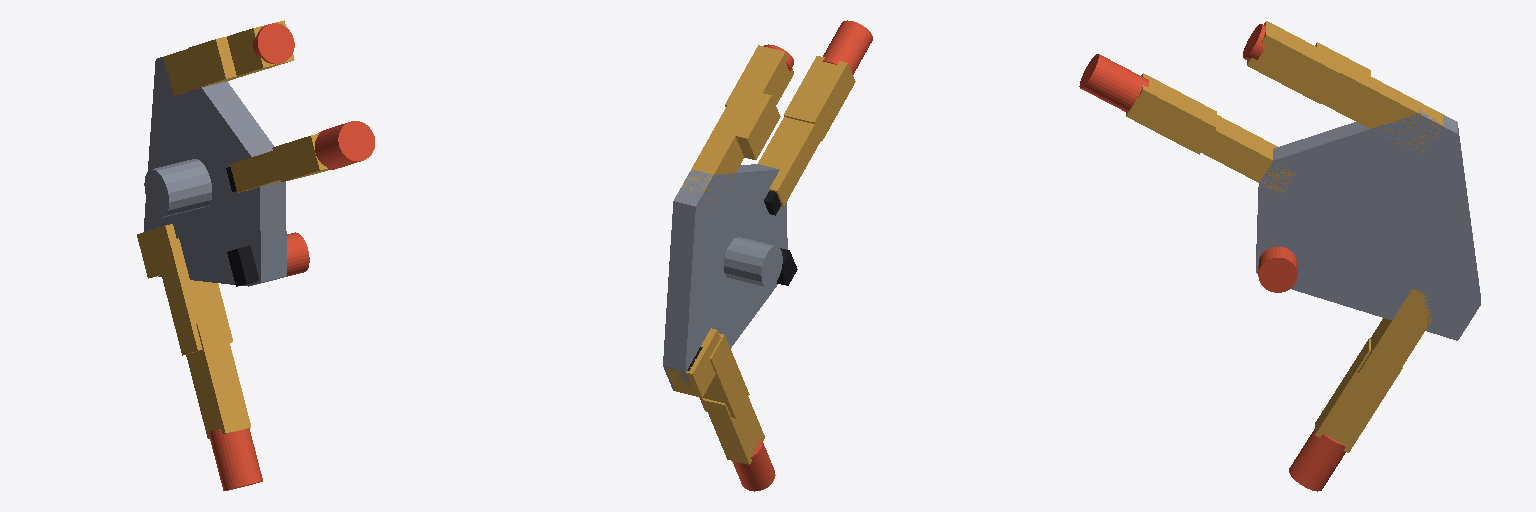
The robot description file, URDF, robot "g0033_c02":
<robot name="g0033_c02">
  <link name="palm">
    <visual name="palm_palm1">
      <origin xyz="0 0 0" rpy="0 0 0" />
      <geometry>
        <mesh filename="palm_palm1.obj" />
      </geometry>
      <material name="palm_palm1_mat">
        <color rgba="0.55 0.57 0.62 1" />
      </material>
    </visual>
    <collision>
      <origin xyz="0 0 0" rpy="0 0 0" />
      <geometry>
        <mesh filename="palm_palm1.obj" />
      </geometry>
    </collision>
    <visual name="palm_mount2">
      <origin xyz="0 0 0" rpy="0 0 0" />
      <geometry>
        <mesh filename="palm_mount2.obj" />
      </geometry>
      <material name="palm_mount2_mat">
        <color rgba="0.55 0.57 0.62 1" />
      </material>
    </visual>
    <collision>
      <origin xyz="0 0 0" rpy="0 0 0" />
      <geometry>
        <mesh filename="palm_mount2.obj" />
      </geometry>
    </collision>
    <visual name="palm_motor3">
      <origin xyz="-0.007 -0.08 -0.04" rpy="1.06057524e-16 -1.04719755 1.57079633" />
      <geometry>
        <box size="0.029 0.034 0.02" />
      </geometry>
      <material name="palm_motor3_mat">
        <color rgba="0.15 0.15 0.17 1" />
      </material>
    </visual>
    <collision>
      <origin xyz="-0.007 -0.08 -0.04" rpy="1.06057524e-16 -1.04719755 1.57079633" />
      <geometry>
        <box size="0.029 0.034 0.02" />
      </geometry>
    </collision>
    <visual name="palm_motor4">
      <origin xyz="-0.0045 -0.0735048095 0.03625" rpy="-0.523598776 -5.30287619e-17 3.061617e-17" />
      <geometry>
        <box size="0.029 0.034 0.02" />
      </geometry>
      <material name="palm_motor4_mat">
        <color rgba="0.15 0.15 0.17 1" />
      </material>
    </visual>
    <collision>
      <origin xyz="-0.0045 -0.0735048095 0.03625" rpy="-0.523598776 -5.30287619e-17 3.061617e-17" />
      <geometry>
        <box size="0.029 0.034 0.02" />
      </geometry>
    </collision>
    <visual name="palm_motor5">
      <origin xyz="-0.0045 0.0666996732 -0.0867548095" rpy="1.57079633 -0.523598776 -1.57079633" />
      <geometry>
        <box size="0.029 0.034 0.02" />
      </geometry>
      <material name="palm_motor5_mat">
        <color rgba="0.15 0.15 0.17 1" />
      </material>
    </visual>
    <collision>
      <origin xyz="-0.0045 0.0666996732 -0.0867548095" rpy="1.57079633 -0.523598776 -1.57079633" />
      <geometry>
        <box size="0.029 0.034 0.02" />
      </geometry>
    </collision>
    <visual name="palm_motor6">
      <origin xyz="0 0.0464951905 0.07625" rpy="-1.57079633 -1.04719755 1.57079633" />
      <geometry>
        <box size="0.029 0.034 0.02" />
      </geometry>
      <material name="palm_motor6_mat">
        <color rgba="0.15 0.15 0.17 1" />
      </material>
    </visual>
    <collision>
      <origin xyz="0 0.0464951905 0.07625" rpy="-1.57079633 -1.04719755 1.57079633" />
      <geometry>
        <box size="0.029 0.034 0.02" />
      </geometry>
    </collision>
    <inertial>
      <origin xyz="0 0.00166433868 -0.00458662896" rpy="-1.57079633 0.761231721 1.57079633" />
      <mass value="1.21129512" />
      <inertia ixx="0.00271392059" ixy="0" ixz="0" iyy="0.00331532563" iyz="0" izz="0.0059129619" />
    </inertial>
  </link>
  <link name="f0_link0">
    <visual name="f0_link0_link1">
      <origin xyz="0.019 0 -6.9388939e-18" rpy="-1.57079633 -0 -1.57079633" />
      <geometry>
        <cylinder radius="0.0165" length="0.029" />
      </geometry>
      <material name="f0_link0_link1_mat">
        <color rgba="0.85 0.35 0.25 1" />
      </material>
    </visual>
    <collision>
      <origin xyz="0.019 0 -6.9388939e-18" rpy="-1.57079633 -0 -1.57079633" />
      <geometry>
        <cylinder radius="0.0165" length="0.029" />
      </geometry>
    </collision>
    <inertial>
      <origin xyz="0.019 0 0" rpy="0 0 0" />
      <mass value="0.0763354" />
      <inertia ixx="9.49466441e-06" ixy="0" ixz="0" iyy="2.24143997e-05" iyz="0" izz="2.24143997e-05" />
    </inertial>
  </link>
  <link name="f1_link0">
    <visual name="f1_link0_link1">
      <origin xyz="0.03875 0 -1.21430643e-17" rpy="0 7.03853194e-17 0" />
      <geometry>
        <box size="0.1015 0.033 0.024" />
      </geometry>
      <material name="f1_link0_link1_mat">
        <color rgba="0.80 0.62 0.30 1" />
      </material>
    </visual>
    <collision>
      <origin xyz="0.03875 0 -1.21430643e-17" rpy="0 7.03853194e-17 0" />
      <geometry>
        <box size="0.1015 0.033 0.024" />
      </geometry>
    </collision>
    <inertial>
      <origin xyz="0.03875 0 0" rpy="0 0 0" />
      <mass value="0.140679" />
      <inertia ixx="1.95192113e-05" ixy="0" ixz="0" iyy="0.000127528444" iyz="0" izz="0.000133542472" />
    </inertial>
  </link>
  <link name="f1_link1">
    <visual name="f1_link1_link1">
      <origin xyz="0.02375 0 -2.08166817e-17" rpy="0 7.03853194e-17 0" />
      <geometry>
        <box size="0.0715 0.033 0.029" />
      </geometry>
      <material name="f1_link1_link1_mat">
        <color rgba="0.80 0.62 0.30 1" />
      </material>
    </visual>
    <collision>
      <origin xyz="0.02375 0 -2.08166817e-17" rpy="0 7.03853194e-17 0" />
      <geometry>
        <box size="0.0715 0.033 0.029" />
      </geometry>
    </collision>
    <inertial>
      <origin xyz="0.02375 0 0" rpy="0 0 0" />
      <mass value="0.119744625" />
      <inertia ixx="1.92589272e-05" ixy="0" ixz="0" iyy="5.94058074e-05" iyz="0" izz="6.18805296e-05" />
    </inertial>
  </link>
  <link name="f1_link2">
    <visual name="f1_link2_link1">
      <origin xyz="0.029 0 -7.80625564e-18" rpy="-1.57079633 -0 -1.57079633" />
      <geometry>
        <cylinder radius="0.0165" length="0.049" />
      </geometry>
      <material name="f1_link2_link1_mat">
        <color rgba="0.85 0.35 0.25 1" />
      </material>
    </visual>
    <collision>
      <origin xyz="0.029 0 -7.80625564e-18" rpy="-1.57079633 -0 -1.57079633" />
      <geometry>
        <cylinder radius="0.0165" length="0.049" />
      </geometry>
    </collision>
    <inertial>
      <origin xyz="0.029 0 0" rpy="0 0 0" />
      <mass value="0.106270851" />
      <inertia ixx="1.35696277e-05" ixy="0" ixz="0" iyy="5.30015704e-05" iyz="0" izz="5.30015704e-05" />
    </inertial>
  </link>
  <link name="f2_link0">
    <visual name="f2_link0_link1">
      <origin xyz="-0.00625 0 -0.0165" rpy="0 4.06369831e-17 0" />
      <geometry>
        <box size="0.0365 0.029 0.053" />
      </geometry>
      <material name="f2_link0_link1_mat">
        <color rgba="0.80 0.62 0.30 1" />
      </material>
    </visual>
    <collision>
      <origin xyz="-0.00625 0 -0.0165" rpy="0 4.06369831e-17 0" />
      <geometry>
        <box size="0.0365 0.029 0.053" />
      </geometry>
    </collision>
    <inertial>
      <origin xyz="-0.00625 0 -0.0165" rpy="0 0 0" />
      <mass value="0.098175875" />
      <inertia ixx="2.98618286e-05" ixy="0" ixz="0" iyy="3.38809035e-05" iyz="0" izz="1.778006e-05" />
    </inertial>
  </link>
  <link name="f2_link1">
    <visual name="f2_link1_link1">
      <origin xyz="0.03375 0 0" rpy="0 4.06369831e-17 0" />
      <geometry>
        <box size="0.0915 0.033 0.029" />
      </geometry>
      <material name="f2_link1_link1_mat">
        <color rgba="0.80 0.62 0.30 1" />
      </material>
    </visual>
    <collision>
      <origin xyz="0.03375 0 0" rpy="0 4.06369831e-17 0" />
      <geometry>
        <box size="0.0915 0.033 0.029" />
      </geometry>
    </collision>
    <inertial>
      <origin xyz="0.03375 0 0" rpy="0 0 0" />
      <mass value="0.153239625" />
      <inertia ixx="2.46460397e-05" ixy="0" ixz="0" iyy="0.000117652915" iyz="0" izz="0.000120819867" />
    </inertial>
  </link>
  <link name="f2_link2">
    <visual name="f2_link2_link1">
      <origin xyz="0.03375 0 0" rpy="0 4.06369831e-17 0" />
      <geometry>
        <box size="0.0915 0.024 0.033" />
      </geometry>
      <material name="f2_link2_link1_mat">
        <color rgba="0.80 0.62 0.30 1" />
      </material>
    </visual>
    <collision>
      <origin xyz="0.03375 0 0" rpy="0 4.06369831e-17 0" />
      <geometry>
        <box size="0.0915 0.024 0.033" />
      </geometry>
    </collision>
    <inertial>
      <origin xyz="0.03375 0 0" rpy="0 0 0" />
      <mass value="0.126819" />
      <inertia ixx="1.75961363e-05" ixy="0" ixz="0" iyy="9.99888553e-05" iyz="0" izz="9.45673431e-05" />
    </inertial>
  </link>
  <link name="f2_link3">
    <visual name="f2_link3_link1">
      <origin xyz="0.029 0 0" rpy="-1.57079633 -0 -1.57079633" />
      <geometry>
        <cylinder radius="0.0165" length="0.049" />
      </geometry>
      <material name="f2_link3_link1_mat">
        <color rgba="0.85 0.35 0.25 1" />
      </material>
    </visual>
    <collision>
      <origin xyz="0.029 0 0" rpy="-1.57079633 -0 -1.57079633" />
      <geometry>
        <cylinder radius="0.0165" length="0.049" />
      </geometry>
    </collision>
    <inertial>
      <origin xyz="0.029 0 0" rpy="0 0 0" />
      <mass value="0.106270851" />
      <inertia ixx="1.35696277e-05" ixy="0" ixz="0" iyy="5.30015704e-05" iyz="0" izz="5.30015704e-05" />
    </inertial>
  </link>
  <link name="f3_link0">
    <visual name="f3_link0_link1">
      <origin xyz="0.03375 0 0" rpy="0 7.03853194e-17 0" />
      <geometry>
        <box size="0.0915 0.024 0.033" />
      </geometry>
      <material name="f3_link0_link1_mat">
        <color rgba="0.80 0.62 0.30 1" />
      </material>
    </visual>
    <collision>
      <origin xyz="0.03375 0 0" rpy="0 7.03853194e-17 0" />
      <geometry>
        <box size="0.0915 0.024 0.033" />
      </geometry>
    </collision>
    <inertial>
      <origin xyz="0.03375 0 0" rpy="0 0 0" />
      <mass value="0.126819" />
      <inertia ixx="1.75961363e-05" ixy="0" ixz="0" iyy="9.99888553e-05" iyz="0" izz="9.45673431e-05" />
    </inertial>
  </link>
  <link name="f3_link1">
    <visual name="f3_link1_link1">
      <origin xyz="0.014 -0.00625 -1.38777878e-17" rpy="0 7.03853194e-17 0" />
      <geometry>
        <box size="0.052 0.0365 0.033" />
      </geometry>
      <material name="f3_link1_link1_mat">
        <color rgba="0.80 0.62 0.30 1" />
      </material>
    </visual>
    <collision>
      <origin xyz="0.014 -0.00625 -1.38777878e-17" rpy="0 7.03853194e-17 0" />
      <geometry>
        <box size="0.052 0.0365 0.033" />
      </geometry>
    </collision>
    <inertial>
      <origin xyz="0.014 -0.00625 0" rpy="0 0 0" />
      <mass value="0.1096095" />
      <inertia ixx="2.21160002e-05" ixy="0" ixz="0" iyy="3.46457361e-05" iyz="0" izz="3.6867612e-05" />
    </inertial>
  </link>
  <link name="f3_link2">
    <visual name="f3_link2_link1">
      <origin xyz="0.02375 0 -1.38777878e-17" rpy="0 7.03853194e-17 0" />
      <geometry>
        <box size="0.0715 0.029 0.033" />
      </geometry>
      <material name="f3_link2_link1_mat">
        <color rgba="0.80 0.62 0.30 1" />
      </material>
    </visual>
    <collision>
      <origin xyz="0.02375 0 -1.38777878e-17" rpy="0 7.03853194e-17 0" />
      <geometry>
        <box size="0.0715 0.029 0.033" />
      </geometry>
    </collision>
    <inertial>
      <origin xyz="0.02375 0 0" rpy="0 0 0" />
      <mass value="0.119744625" />
      <inertia ixx="1.92589272e-05" ixy="0" ixz="0" iyy="6.18805296e-05" iyz="0" izz="5.94058074e-05" />
    </inertial>
  </link>
  <link name="f3_link3">
    <visual name="f3_link3_link1">
      <origin xyz="0.009 0 0" rpy="-1.57079633 -0 -1.57079633" />
      <geometry>
        <cylinder radius="0.0165" length="0.009" />
      </geometry>
      <material name="f3_link3_link1_mat">
        <color rgba="0.85 0.35 0.25 1" />
      </material>
    </visual>
    <collision>
      <origin xyz="0.009 0 0" rpy="-1.57079633 -0 -1.57079633" />
      <geometry>
        <cylinder radius="0.0165" length="0.009" />
      </geometry>
    </collision>
    <inertial>
      <origin xyz="0.009 0 0" rpy="0 0 0" />
      <mass value="0.046399949" />
      <inertia ixx="5.41970115e-06" ixy="0" ixz="0" iyy="7.09430898e-06" iyz="0" izz="7.09430898e-06" />
    </inertial>
  </link>
  <joint name="f0_j0" type="revolute">
    <parent link="palm" />
    <child link="f0_link0" />
    <origin xyz="0.0005 -0.08 -0.04" rpy="1.04719755 5.30287619e-17 -3.061617e-17" />
    <axis xyz="0 1 6.123234e-17" />
    <limit effort="0.5" lower="-0.523598776" upper="0.523598776" velocity="5" />
    <dynamics damping="0.0775033" friction="0" />
  </joint>
  <joint name="f1_j0" type="revolute">
    <parent link="palm" />
    <child link="f1_link0" />
    <origin xyz="-0.0045 -0.08 0.04" rpy="-0 -0.523598776 -1.57079633" />
    <axis xyz="-0 -1 -6.123234e-17" />
    <limit effort="0.5" lower="-0.523598776" upper="0.523598776" velocity="5" />
    <dynamics damping="0.0775033" friction="0" />
  </joint>
  <joint name="f1_j1" type="revolute">
    <parent link="f1_link0" />
    <child link="f1_link1" />
    <origin xyz="0.08 0 0" rpy="0 0 0" />
    <axis xyz="-0 -1 -6.123234e-17" />
    <limit effort="0.5" lower="-0.523598776" upper="0.523598776" velocity="5" />
    <dynamics damping="0.0775033" friction="0" />
  </joint>
  <joint name="f1_j2" type="revolute">
    <parent link="f1_link1" />
    <child link="f1_link2" />
    <origin xyz="0.05 0 0" rpy="0 0 0" />
    <axis xyz="0 0 1" />
    <limit effort="0.5" lower="-0.523598776" upper="1.57079633" velocity="5" />
    <dynamics damping="0.0775033" friction="0" />
  </joint>
  <joint name="f2_j0" type="revolute">
    <parent link="palm" />
    <child link="f2_link0" />
    <origin xyz="-0.0045 0.04 -0.08" rpy="0 1.04719755 -1.57079633" />
    <axis xyz="0 0 1" />
    <limit effort="0.5" lower="-0.523598776" upper="1.57079633" velocity="5" />
    <dynamics damping="0.0775033" friction="0" />
  </joint>
  <joint name="f2_j1" type="revolute">
    <parent link="f2_link0" />
    <child link="f2_link1" />
    <origin xyz="0 0 0" rpy="0 0 0" />
    <axis xyz="0 1 6.123234e-17" />
    <limit effort="0.5" lower="-0.523598776" upper="0.523598776" velocity="5" />
    <dynamics damping="0.0775033" friction="0" />
  </joint>
  <joint name="f2_j2" type="revolute">
    <parent link="f2_link1" />
    <child link="f2_link2" />
    <origin xyz="0.07 0 0" rpy="0 0 0" />
    <axis xyz="0 0 1" />
    <limit effort="0.5" lower="-0.523598776" upper="1.57079633" velocity="5" />
    <dynamics damping="0.0775033" friction="0" />
  </joint>
  <joint name="f2_j3" type="revolute">
    <parent link="f2_link2" />
    <child link="f2_link3" />
    <origin xyz="0.07 0 0" rpy="0 0 0" />
    <axis xyz="0 0 1" />
    <limit effort="0.5" lower="-0.523598776" upper="1.57079633" velocity="5" />
    <dynamics damping="0.0775033" friction="0" />
  </joint>
  <joint name="f3_j0" type="revolute">
    <parent link="palm" />
    <child link="f3_link0" />
    <origin xyz="0 0.04 0.08" rpy="-0 -0.523598776 -1.57079633" />
    <axis xyz="0 0 1" />
    <limit effort="0.5" lower="-0.523598776" upper="1.57079633" velocity="5" />
    <dynamics damping="0.0775033" friction="0" />
  </joint>
  <joint name="f3_j1" type="revolute">
    <parent link="f3_link0" />
    <child link="f3_link1" />
    <origin xyz="0.07 0 0" rpy="0 0 0" />
    <axis xyz="0 0 1" />
    <limit effort="0.5" lower="-0.523598776" upper="1.57079633" velocity="5" />
    <dynamics damping="0.0775033" friction="0" />
  </joint>
  <joint name="f3_j2" type="revolute">
    <parent link="f3_link1" />
    <child link="f3_link2" />
    <origin xyz="0.03 0 0" rpy="0 0 0" />
    <axis xyz="0 0 1" />
    <limit effort="0.5" lower="-0.523598776" upper="1.57079633" velocity="5" />
    <dynamics damping="0.0775033" friction="0" />
  </joint>
  <joint name="f3_j3" type="revolute">
    <parent link="f3_link2" />
    <child link="f3_link3" />
    <origin xyz="0.05 0 0" rpy="0 0 0" />
    <axis xyz="-0 -1 -6.123234e-17" />
    <limit effort="0.5" lower="-0.523598776" upper="0.523598776" velocity="5" />
    <dynamics damping="0.0775033" friction="0" />
  </joint>
</robot>

--- Render facts (derived) ---
3 views of the same robot in one strip: view 1: azimuth 30°, elevation 25°; view 2: azimuth 150°, elevation 25°; view 3: azimuth 270°, elevation 25° (orthographic).
Model g0033_c02 with 13 links and 12 joints (12 revolute), rooted at palm, posed all joints at 0.
Links seen in each view (by area): view 1: palm, f2_link2, f2_link1, f2_link3, f1_link2, f3_link1, f1_link0, f1_link1, f3_link3, f3_link2, f3_link0, f2_link0 (+1 smaller); view 2: palm, f1_link1, f1_link0, f3_link1, f2_link2, f3_link2, f2_link1, f3_link0, f1_link2, f2_link0, f2_link3; view 3: palm, f3_link2, f2_link2, f2_link1, f1_link1, f1_link0, f3_link0, f1_link2, f2_link3, f3_link1, f0_link0, f3_link3.
Boxes of the visible links, <box> form: palm: <box>144,57,286,286</box>; f2_link2: <box>186,317,250,438</box>; f2_link1: <box>154,238,232,355</box>; f2_link3: <box>208,428,262,490</box>; f1_link2: <box>315,121,374,169</box>; f3_link1: <box>188,37,253,87</box>; f1_link0: <box>230,147,290,192</box>; f1_link1: <box>272,133,327,182</box>; f3_link3: <box>253,23,294,64</box>; f3_link2: <box>227,20,294,75</box>; f3_link0: <box>164,49,232,95</box>; f2_link0: <box>137,224,176,278</box>; palm: <box>663,164,797,390</box>; f1_link1: <box>784,56,855,140</box>; f1_link0: <box>758,117,830,206</box>; f3_link1: <box>713,87,780,159</box>; f2_link2: <box>703,397,764,464</box>; f3_link2: <box>725,45,793,106</box>; f2_link1: <box>699,333,749,418</box>; f3_link0: <box>681,116,744,210</box>; f1_link2: <box>823,20,872,74</box>; f2_link0: <box>666,328,720,397</box>; f2_link3: <box>732,439,775,491</box>; palm: <box>1256,108,1480,340</box>; f3_link2: <box>1247,21,1339,103</box>; f2_link2: <box>1315,338,1402,452</box>; f2_link1: <box>1358,289,1432,388</box>; f1_link1: <box>1126,73,1216,154</box>; f1_link0: <box>1180,115,1295,194</box>; f3_link0: <box>1330,70,1442,153</box>; f1_link2: <box>1079,54,1148,111</box>; f2_link3: <box>1289,429,1345,491</box>; f3_link1: <box>1315,42,1370,118</box>; f0_link0: <box>1258,247,1297,292</box>; f3_link3: <box>1243,24,1265,60</box>.
Size in the robot's own frame: 0.086 by 0.3377 by 0.4319 metres.
Meshes: 2 distinct files referenced, 2 mesh visuals loaded (2 OBJ).
